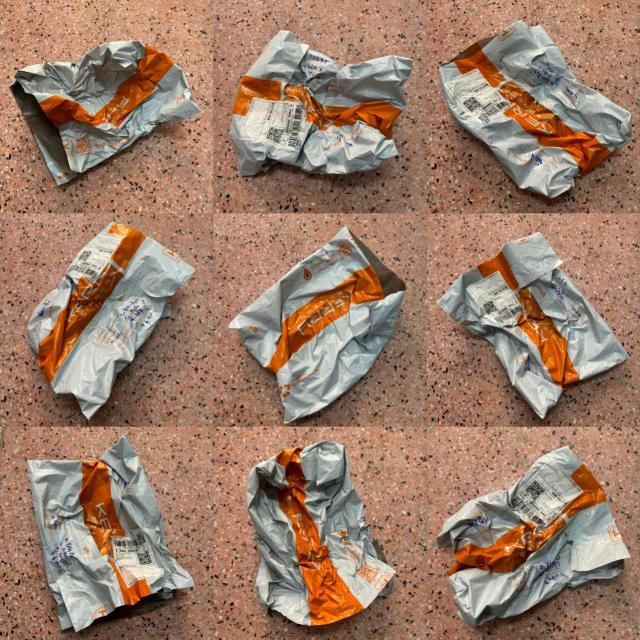Single-layer Plastic: (438, 232, 629, 417), (436, 446, 629, 624), (230, 226, 405, 422), (439, 21, 631, 198), (28, 222, 194, 419), (28, 436, 194, 631), (246, 441, 395, 624), (11, 41, 200, 184), (230, 31, 412, 175)
